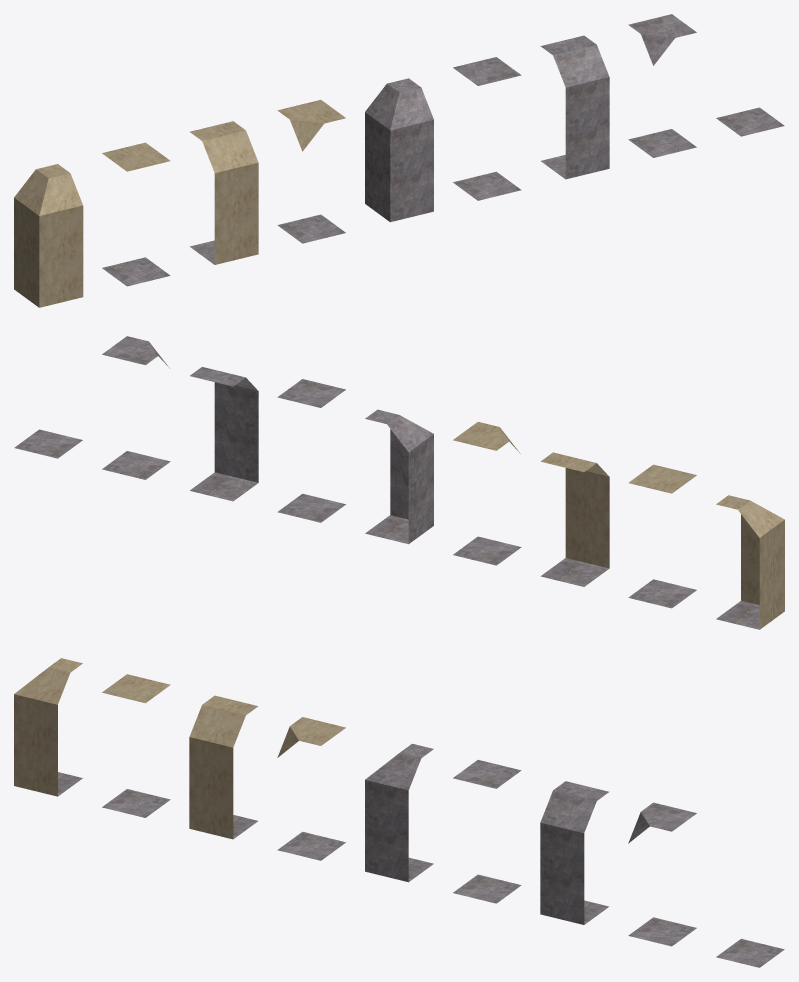
File: TilesA.glb
3 renders of one model, top to bottom at view 1: azimuth 30°, elevation 25°; view 2: azimuth 150°, elevation 25°; view 3: azimuth 330°, elevation 25°, orthographic.
Parts seen in each view (by area): view 1: corner-in-col, corner-in-concrete-col, wall-concrete-col, wall-col, corner-out-concrete-col, corner-out-col, floor-col, floor-concrete-col, floor-noceiling-col; view 2: wall-col, wall-concrete-col, corner-in-concrete-col, corner-in-col, floor-col, floor-concrete-col, corner-out-col, corner-out-concrete-col, floor-noceiling-col; view 3: wall-col, wall-concrete-col, corner-in-col, corner-in-concrete-col, corner-out-concrete-col, corner-out-col, floor-col, floor-concrete-col, floor-noceiling-col.
Boxes of the visible parts, bbox=[...] form: corner-in-col: bbox=[14, 164, 83, 307]; corner-in-concrete-col: bbox=[365, 78, 433, 222]; wall-concrete-col: bbox=[540, 35, 609, 179]; wall-col: bbox=[189, 121, 258, 264]; corner-out-concrete-col: bbox=[628, 14, 696, 157]; corner-out-col: bbox=[277, 100, 345, 243]; floor-col: bbox=[102, 142, 170, 286]; floor-concrete-col: bbox=[453, 57, 521, 200]; floor-noceiling-col: bbox=[716, 107, 784, 136]; wall-col: bbox=[540, 452, 609, 586]; wall-concrete-col: bbox=[190, 367, 258, 501]; corner-in-concrete-col: bbox=[365, 409, 433, 544]; corner-in-col: bbox=[716, 495, 784, 629]; floor-col: bbox=[628, 464, 696, 608]; floor-concrete-col: bbox=[277, 379, 345, 522]; corner-out-col: bbox=[453, 422, 521, 565]; corner-out-concrete-col: bbox=[102, 336, 170, 479]; floor-noceiling-col: bbox=[14, 429, 82, 458]; wall-col: bbox=[189, 695, 258, 839]; wall-concrete-col: bbox=[540, 781, 609, 924]; corner-in-col: bbox=[14, 658, 82, 796]; corner-in-concrete-col: bbox=[365, 743, 433, 882]; corner-out-concrete-col: bbox=[628, 802, 696, 946]; corner-out-col: bbox=[277, 717, 345, 860]; floor-col: bbox=[102, 674, 170, 817]; floor-concrete-col: bbox=[453, 760, 521, 903]; floor-noceiling-col: bbox=[716, 938, 784, 967].
Size of the model in its own units: 17 by 2.5 by 1.
Materials: 5 (5 with a texture image).
